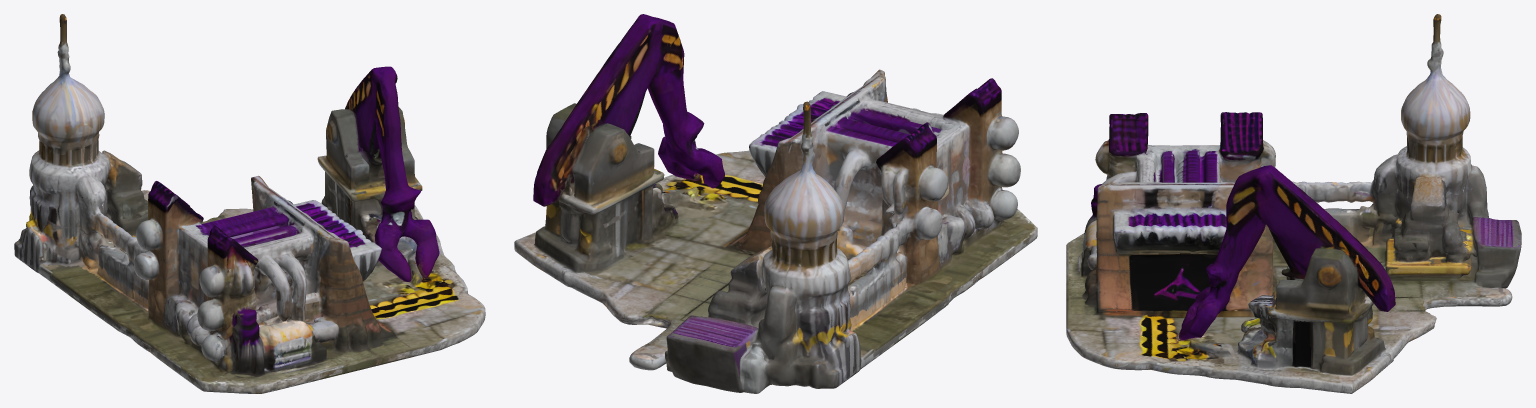
The model's file is SovietBase.fbx.
3 renders of one model, left to right at view 1: azimuth 30°, elevation 25°; view 2: azimuth 150°, elevation 25°; view 3: azimuth 270°, elevation 25°, orthographic. The views are drawn at different scales.
Parts seen in each view (by area): view 1: texture_pbr_v128.001; view 2: texture_pbr_v128.001; view 3: texture_pbr_v128.001.
Boxes of the visible parts, box(x1,y1,x2,y2) form: texture_pbr_v128.001: box(14, 14, 485, 393); texture_pbr_v128.001: box(514, 14, 1037, 393); texture_pbr_v128.001: box(1066, 14, 1521, 393).
Bounding box in the file's own units: 77.49 × 52.25 × 91.26.
1 material, 1 textured.
